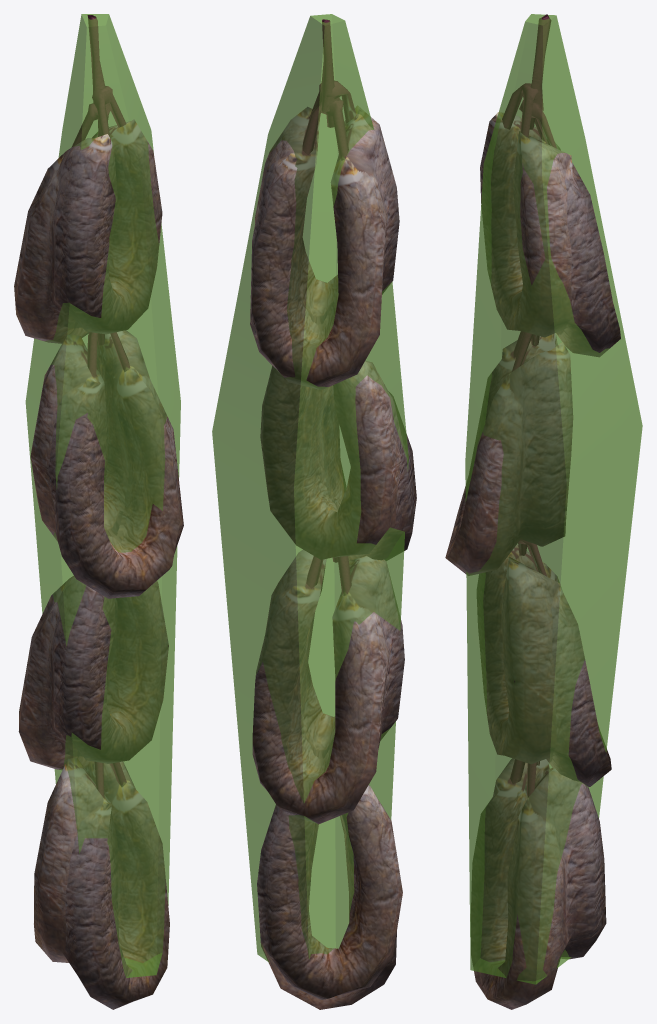
Rendered from pg_Chorizo_01_b.fbx.
3 renders of one model, left to right at view 1: azimuth 30°, elevation 25°; view 2: azimuth 150°, elevation 25°; view 3: azimuth 270°, elevation 25°, orthographic. The views are drawn at different scales.
Visible parts, largest first — view 1: pg_Chorizo_01_b_LOD0, pg_Chorizo_01_b_col; view 2: pg_Chorizo_01_b_LOD0, pg_Chorizo_01_b_col; view 3: pg_Chorizo_01_b_col, pg_Chorizo_01_b_LOD0.
Part boxes in pixels (x1,y1,x2,y2): pg_Chorizo_01_b_LOD0: (14,15,183,1009); pg_Chorizo_01_b_col: (25,14,180,977); pg_Chorizo_01_b_LOD0: (250,19,416,1009); pg_Chorizo_01_b_col: (212,14,408,962); pg_Chorizo_01_b_col: (465,14,642,984); pg_Chorizo_01_b_LOD0: (445,14,620,1009).
Size of what is drawn, in the model's own units: 17.23 by 98.37 by 17.92.
